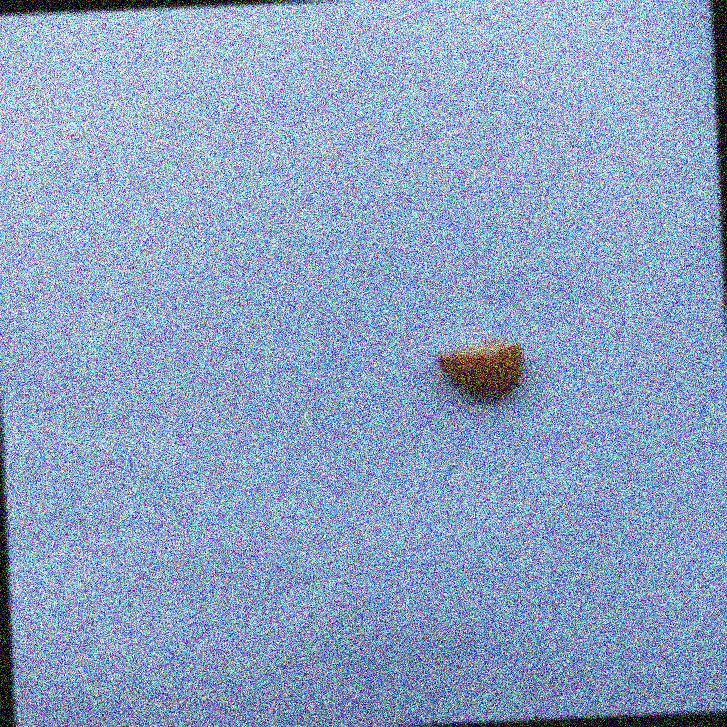grade4: (427, 333, 533, 408)
